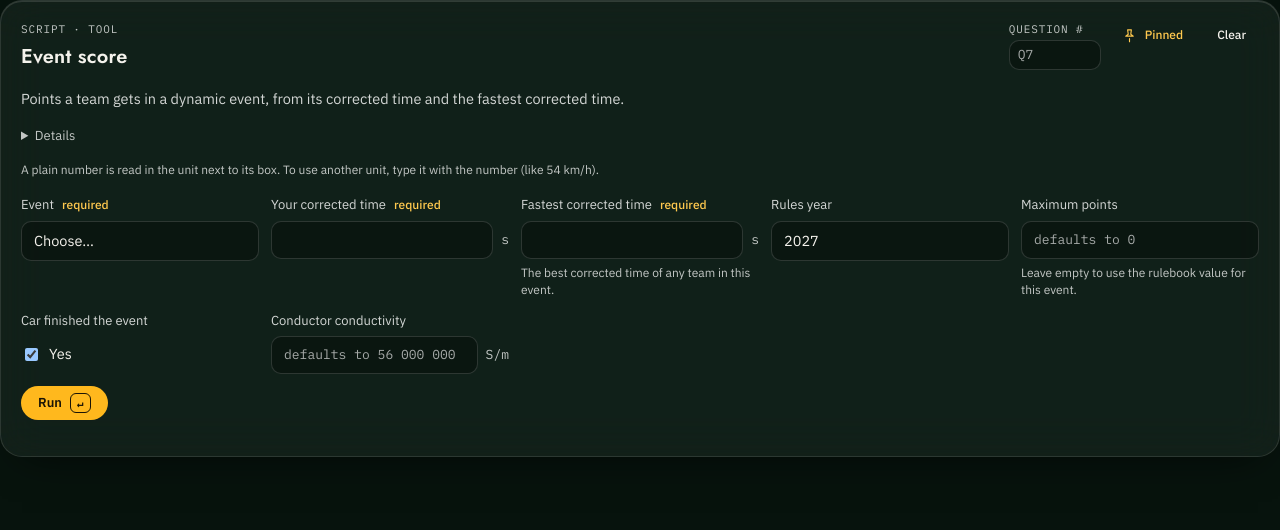
typing hints and engine errors in the sheet › explains a tool's missing value by the label of the field
The width and height of the screenshot is (1280, 530).
Click the button "Run ↵": (64, 403) [21,386,108,420]
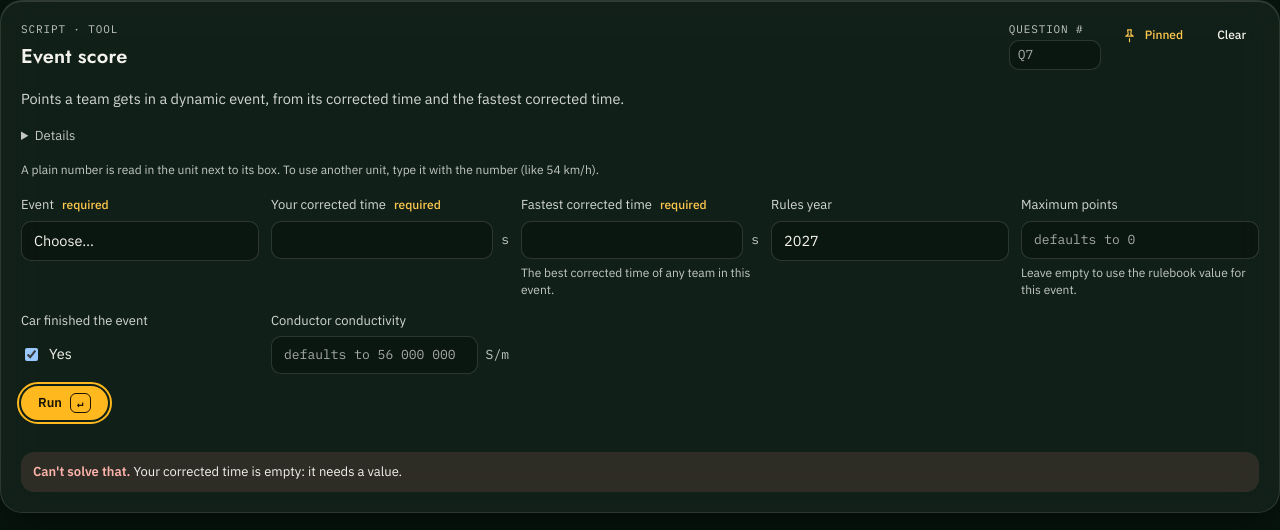
Expected: the message with class "note-bad" shows "Your corrected time is empty", [130,463,402,480]
